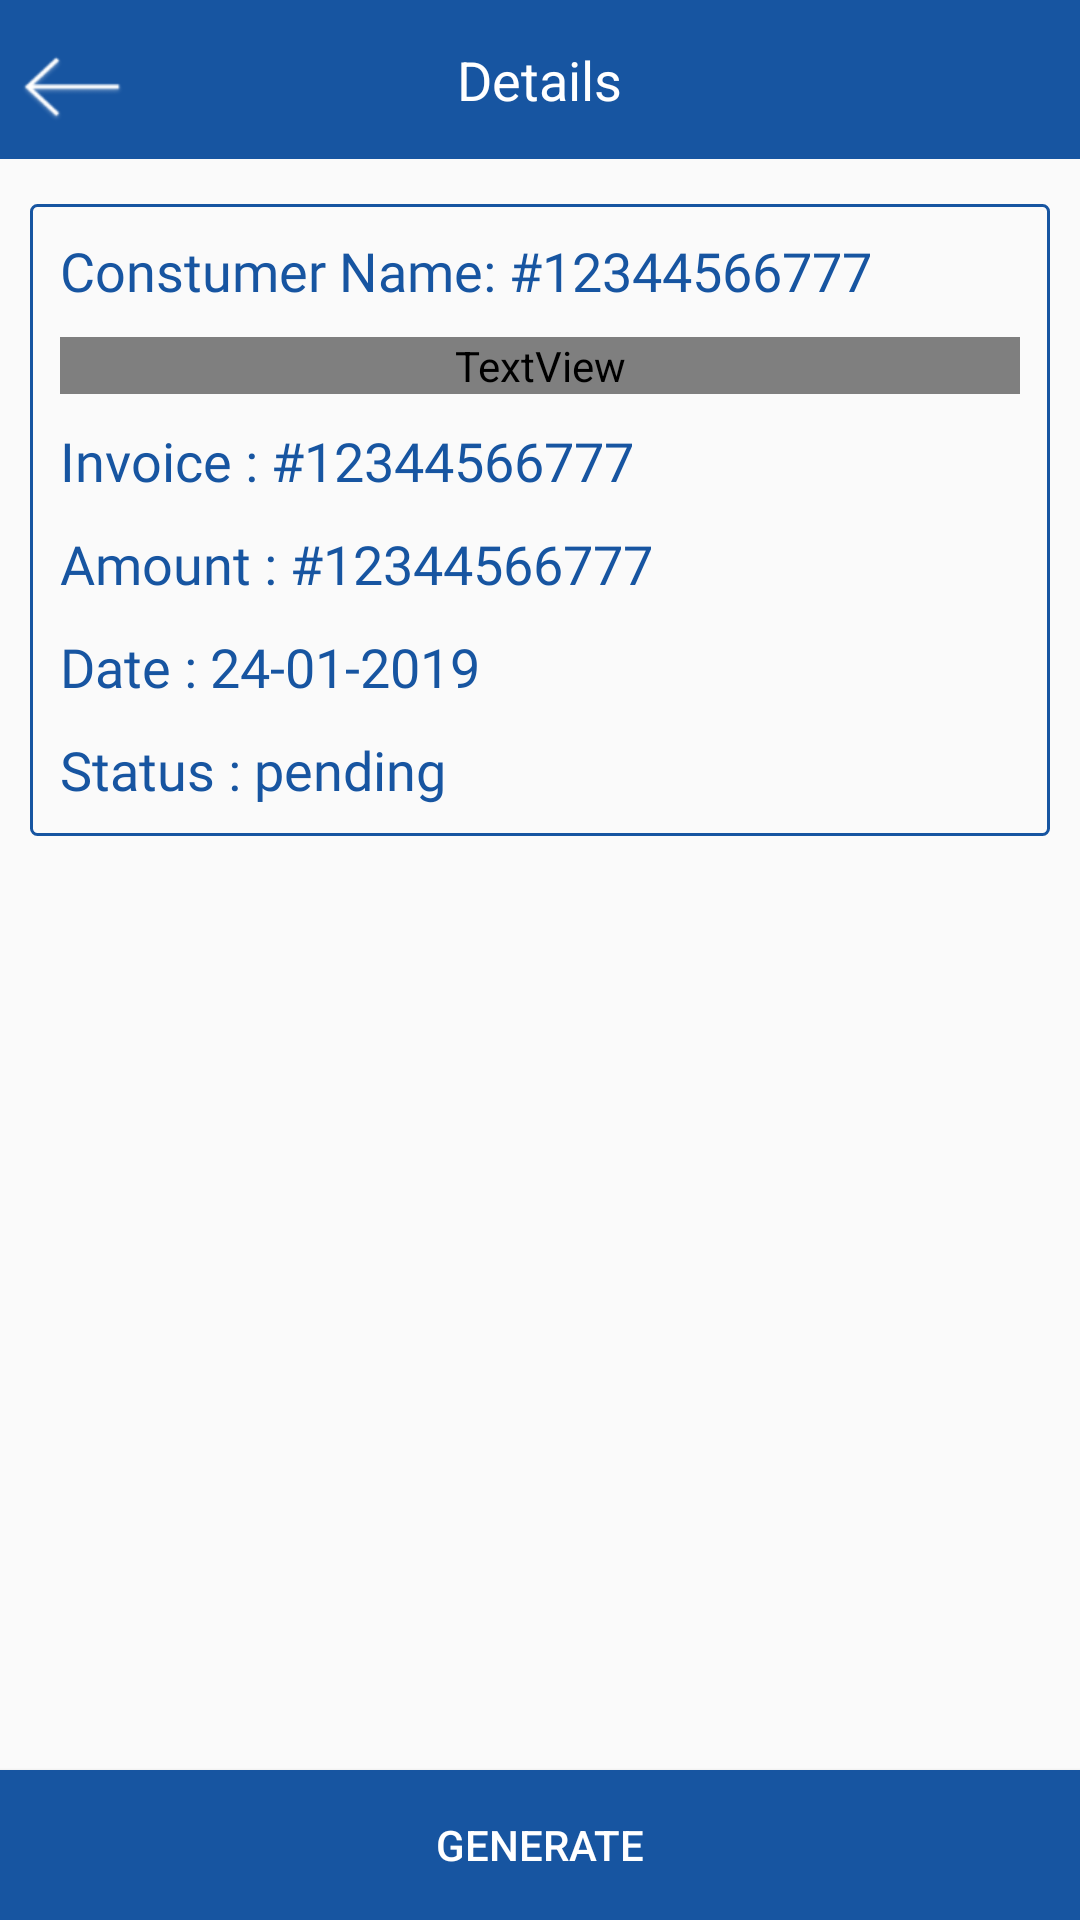

Icons on this 1080 × 1920 Android screen, each with the point to tap as point (x, y):
back: point (72, 87)
